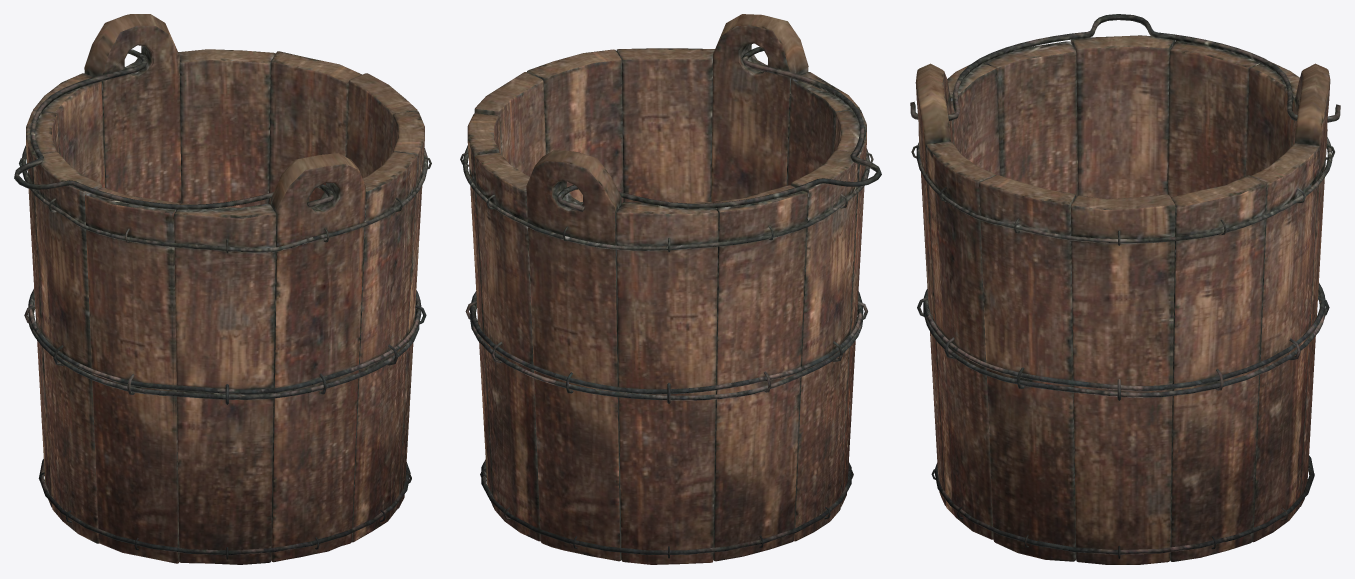
The model's file is obj_woodenbucketa_d0aad1.glb.
3 views of the same model, side by side, from view 1: azimuth 30°, elevation 25°; view 2: azimuth 150°, elevation 25°; view 3: azimuth 270°, elevation 25° (orthographic). The views are drawn at different scales.
Parts seen in each view (by area): view 1: obj_woodenbucketa_d0aad1; view 2: obj_woodenbucketa_d0aad1; view 3: obj_woodenbucketa_d0aad1.
Part boxes in pixels (box(x1,y1,x2,y2)): obj_woodenbucketa_d0aad1: box(14, 14, 431, 564); obj_woodenbucketa_d0aad1: box(460, 14, 881, 564); obj_woodenbucketa_d0aad1: box(910, 14, 1340, 564).
Bounding box in the file's own units: 0.2973 × 0.3 × 0.2793.
1 material, 1 textured.
